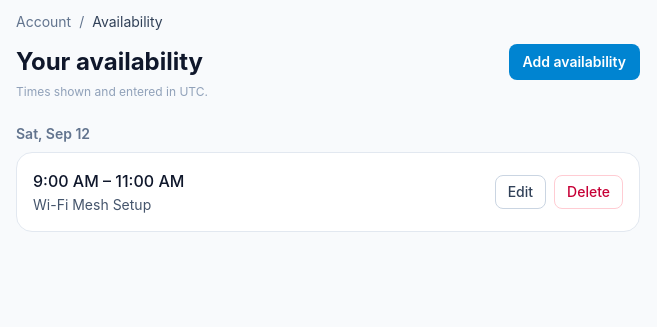
Test case: TechnicianAvailabilityPage › deletes a slot after confirmation
The image size is (657, 327).
Expected: the text "Wi-Fi Mesh Setup" is shown, [33, 196, 151, 213]
Click the button "Delete": (589, 192) [554, 175, 623, 209]
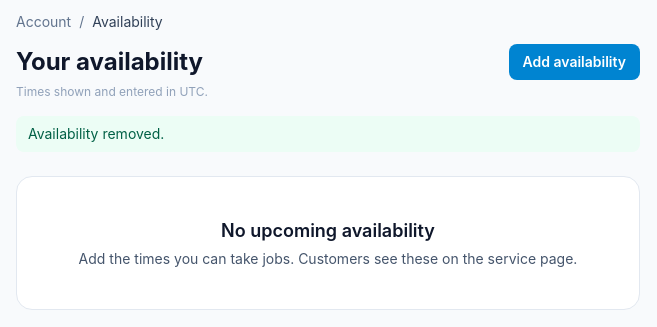
Expected: the text "No upcoming availability" is shown, [221, 220, 435, 241]
